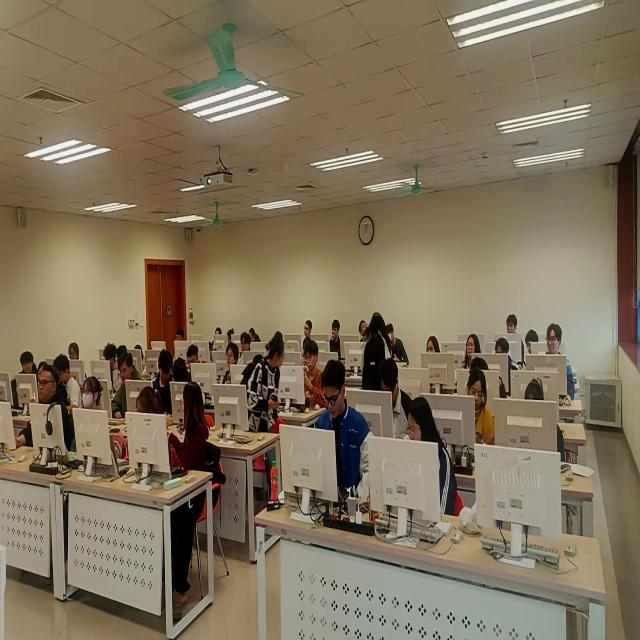raise_head: (19, 365, 72, 453), (68, 377, 105, 458), (545, 320, 577, 408), (506, 312, 526, 370), (460, 332, 484, 369), (222, 342, 240, 387), (173, 327, 185, 366), (330, 319, 342, 357), (425, 334, 443, 356), (356, 319, 370, 347), (69, 341, 83, 363), (241, 332, 252, 356), (304, 319, 314, 341)
sleep: (208, 340, 219, 364)
stand: (242, 333, 287, 439), (362, 309, 391, 395)
using_computer: (315, 354, 375, 514), (407, 395, 456, 525), (517, 371, 569, 468), (375, 352, 415, 447), (460, 365, 497, 453), (113, 347, 142, 421), (54, 353, 81, 411), (12, 347, 36, 409), (134, 384, 165, 423), (386, 319, 411, 367), (99, 340, 118, 370), (187, 340, 201, 376), (135, 340, 146, 368), (37, 359, 49, 383), (249, 328, 263, 346), (227, 327, 236, 344), (216, 325, 224, 337)
using_phone: (303, 338, 325, 414)
